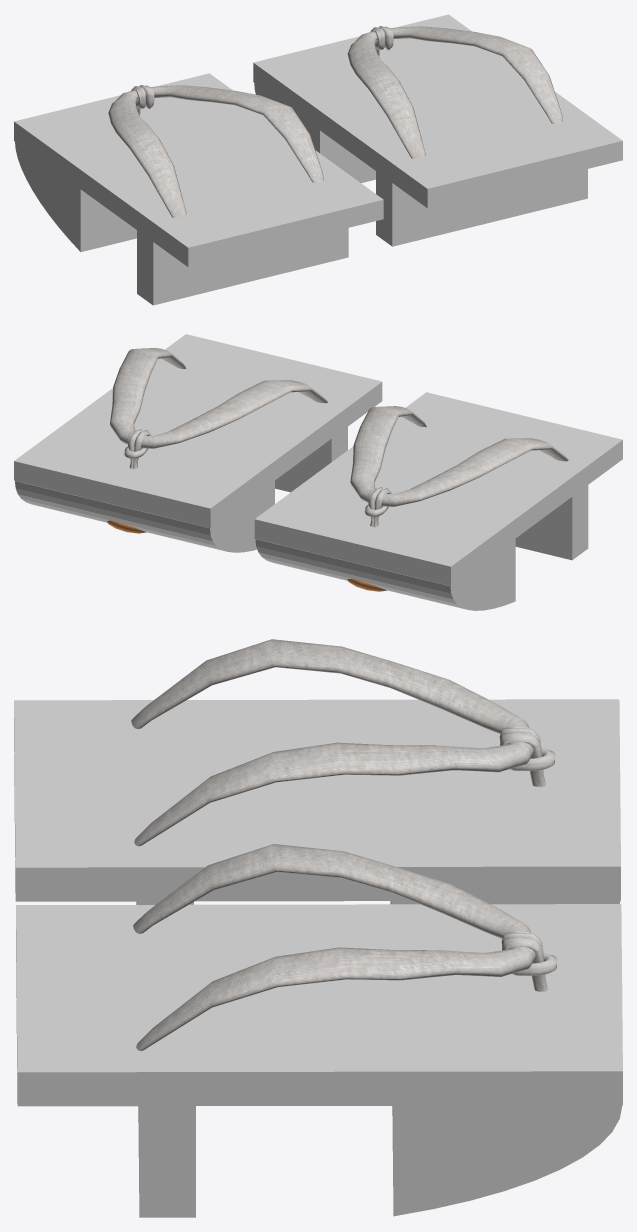
File: Chancla.fbx
The picture shows the model from 3 angles, top to bottom: view 1: azimuth 30°, elevation 25°; view 2: azimuth 150°, elevation 25°; view 3: azimuth 270°, elevation 25°; orthographic projection. The views are drawn at different scales.
Parts seen in each view (by area): view 1: Geta.001; view 2: Geta.001; view 3: Geta.001.
Boxes of the visible parts, bbox=[...] form: Geta.001: bbox=[14, 14, 622, 305]; Geta.001: bbox=[14, 334, 622, 610]; Geta.001: bbox=[14, 639, 622, 1217].
Size of the model in its own units: 0.4459 by 0.1261 by 0.3076.
Materials: 4 (2 with a texture image).
